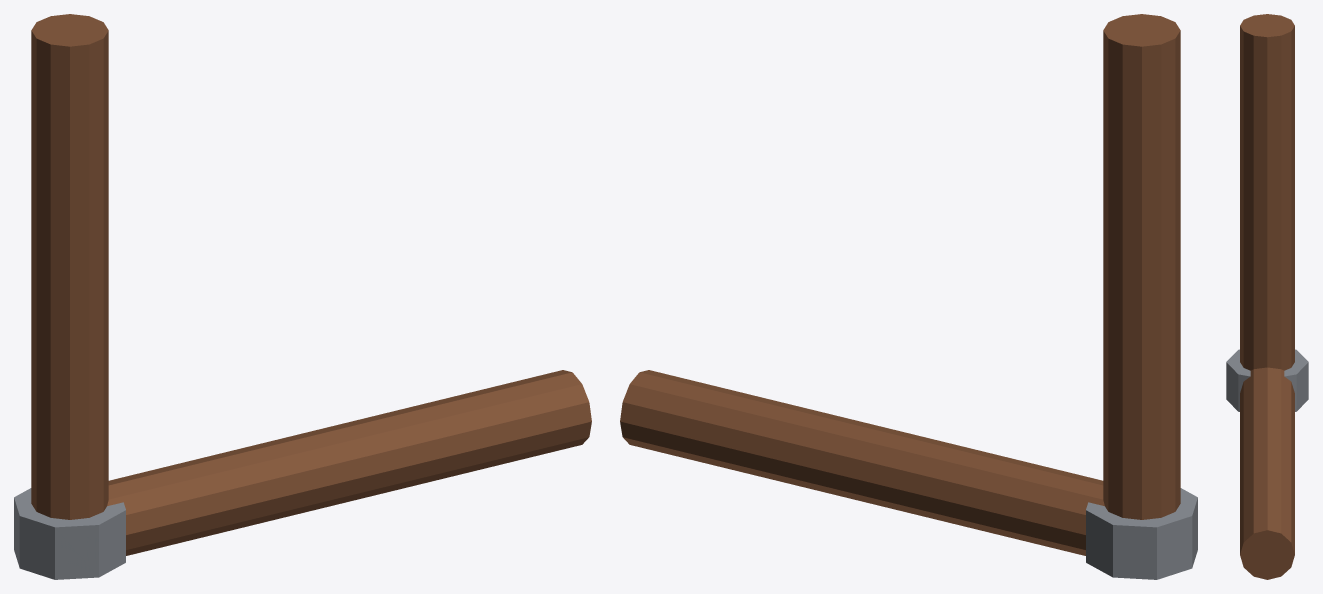
Rendered from DETAIL_Pipe_Elbow_90deg.glb.
The picture shows the model from 3 angles, left to right: view 1: azimuth 30°, elevation 25°; view 2: azimuth 150°, elevation 25°; view 3: azimuth 270°, elevation 25°; orthographic projection. The views are drawn at different scales.
Visible parts, largest first — view 1: DETAIL_Pipe_Elbow_90deg; view 2: DETAIL_Pipe_Elbow_90deg; view 3: DETAIL_Pipe_Elbow_90deg.
Part boxes in pixels (x1,y1,x2,y2): DETAIL_Pipe_Elbow_90deg: (14, 14, 591, 579); DETAIL_Pipe_Elbow_90deg: (620, 14, 1197, 579); DETAIL_Pipe_Elbow_90deg: (1226, 14, 1308, 579).
Bounding box in the file's own units: 1.32 × 1.22 × 0.24.
